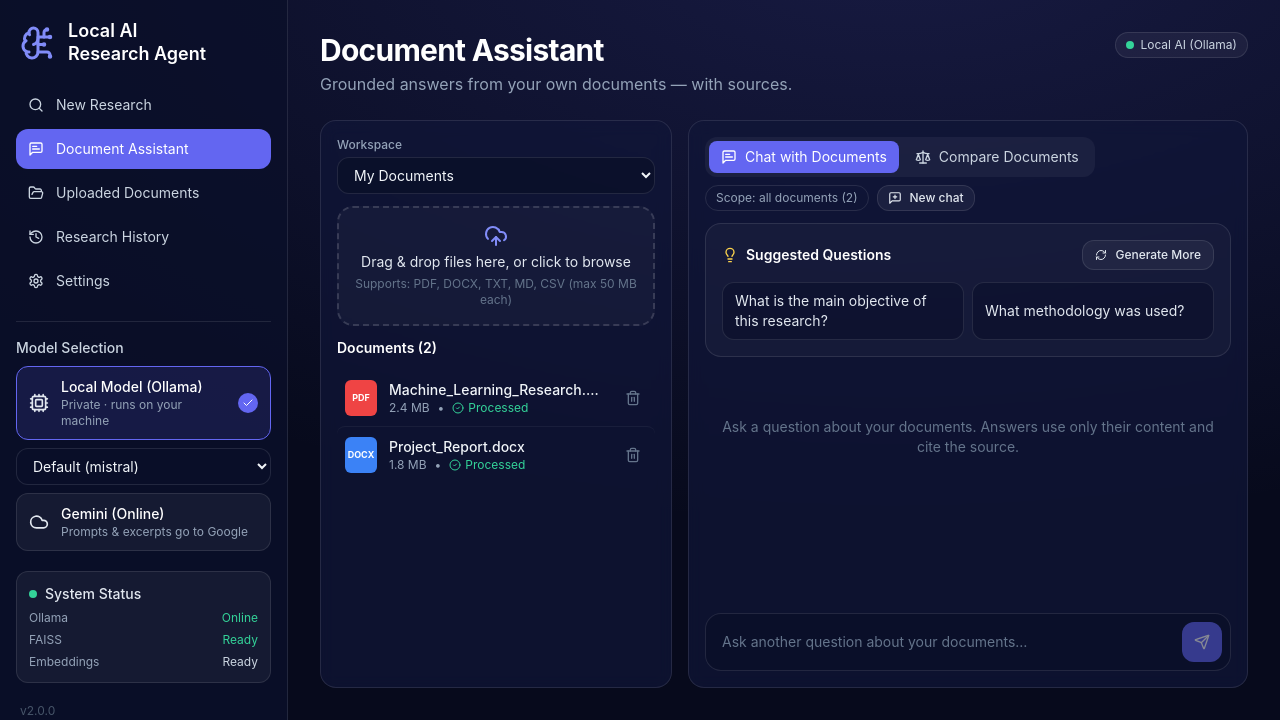
Document Assistant › surfaces backend errors (e.g. Ollama down) in the chat instead of failing silently
In the field named "Message": [944, 642] box 714,632 -> 1174,652, type "hello there"
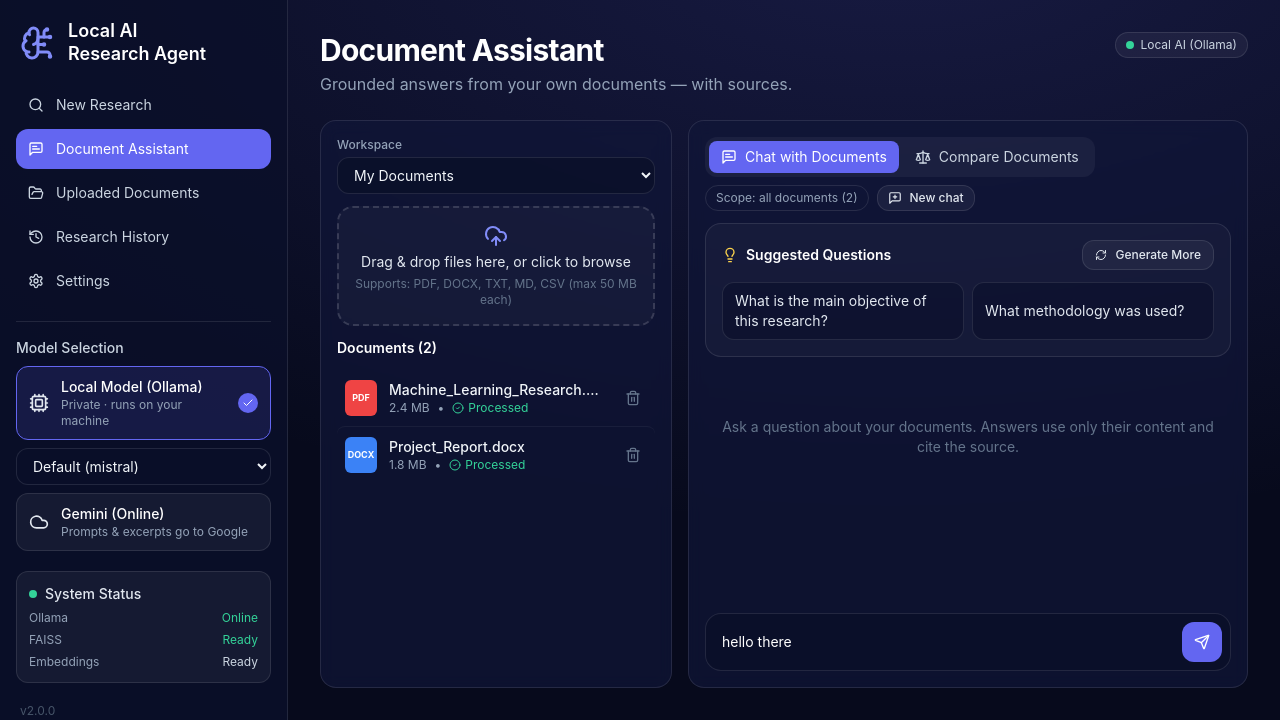
Click the button named "Send": [1202, 642] box 1182,622 -> 1222,662
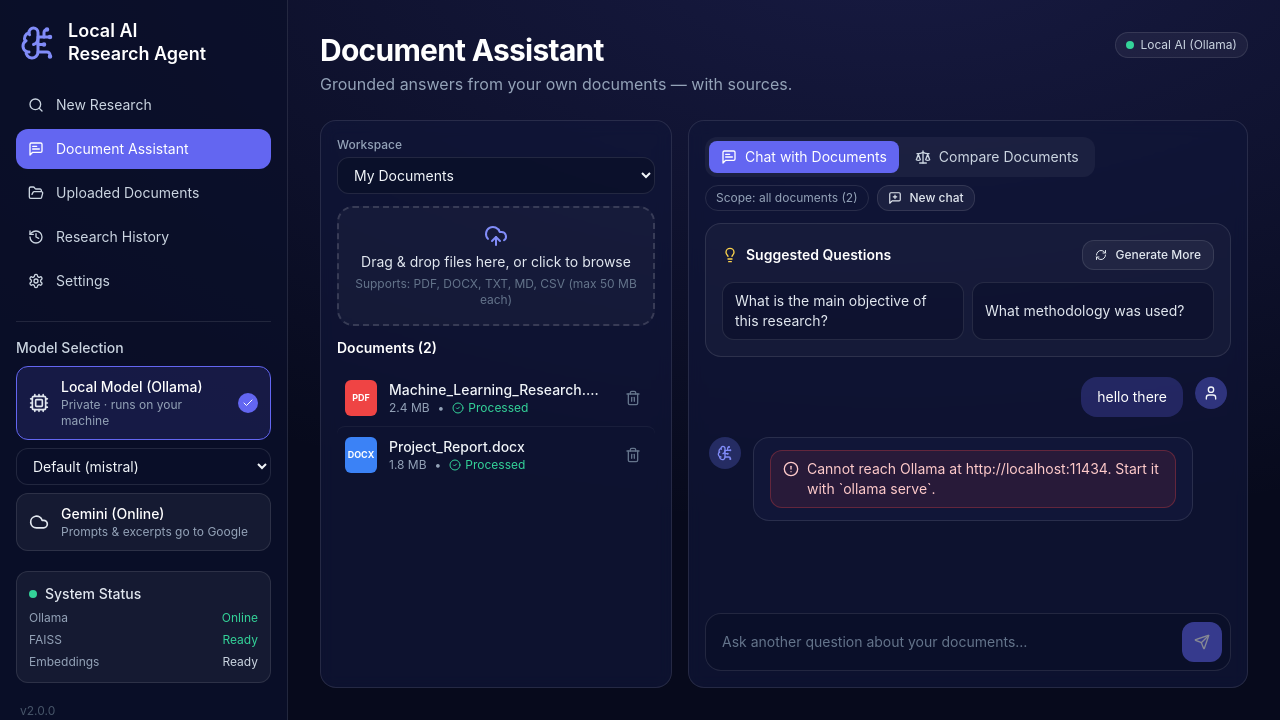
Expected: the message shows "Cannot reach Ollama", 807,460 -> 1159,497
